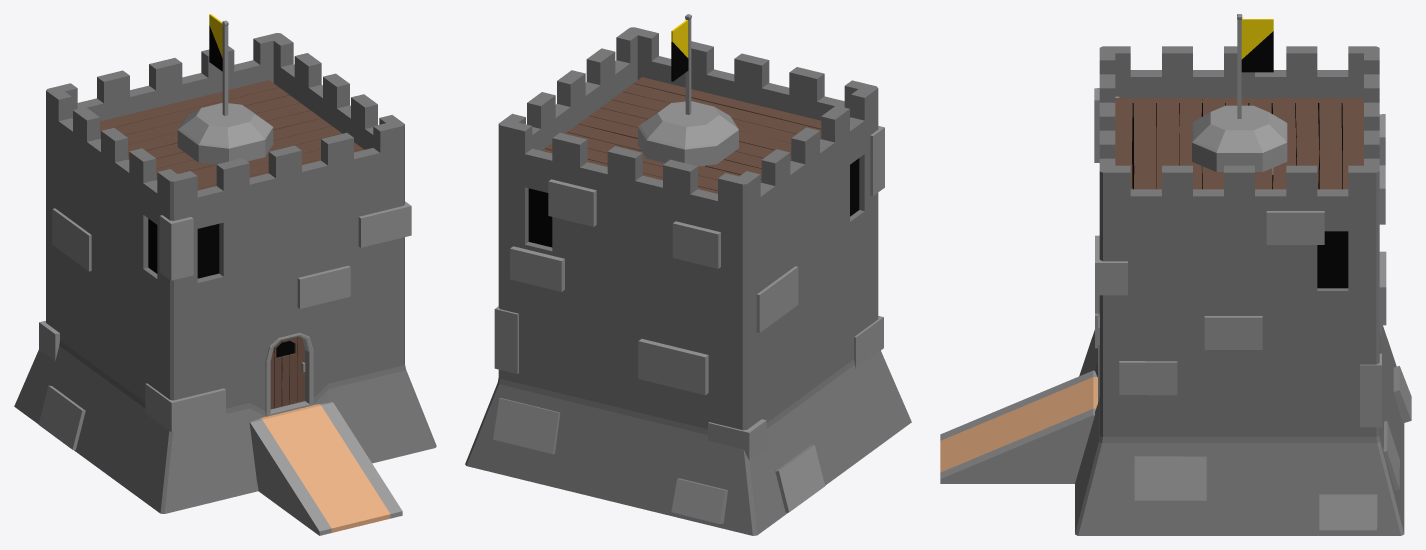
The model's file is towerStone.glb.
3 views of the same model, side by side, from view 1: azimuth 30°, elevation 25°; view 2: azimuth 150°, elevation 25°; view 3: azimuth 270°, elevation 25° (orthographic). The views are drawn at different scales.
Size of the model in its own units: 613 by 840 by 801.
